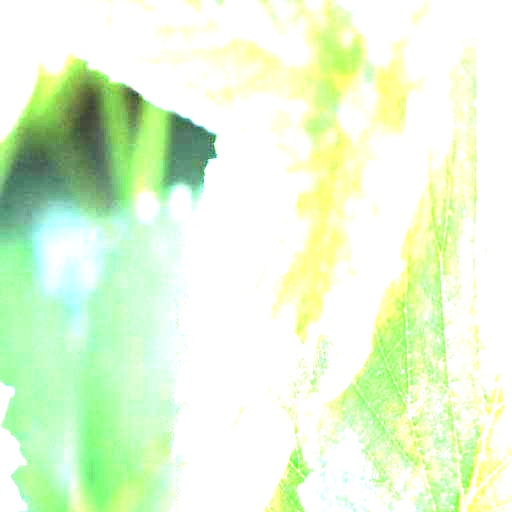Powdery Mildew Leaf: (297, 0, 511, 511), (175, 104, 411, 511), (39, 0, 374, 133), (223, 321, 345, 510)
